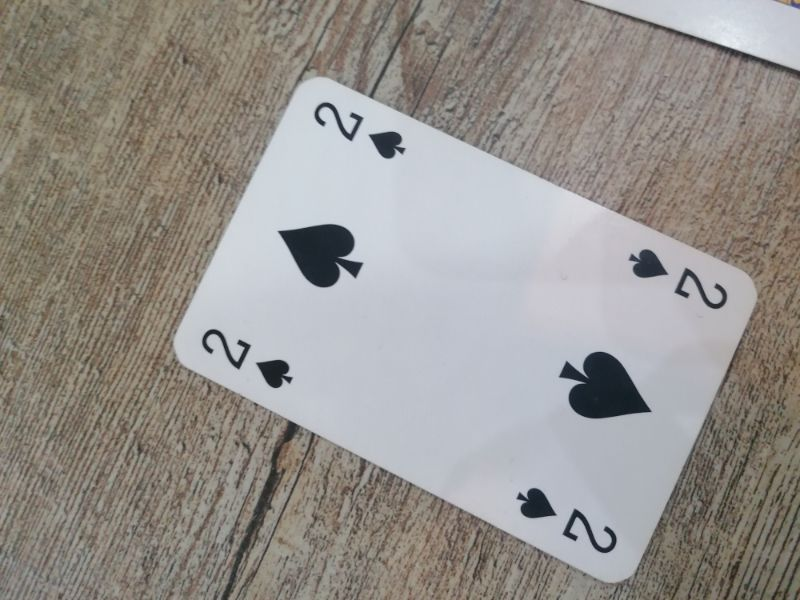2s: (512, 485, 621, 558), (625, 243, 732, 316), (196, 324, 299, 394), (312, 97, 411, 163)
